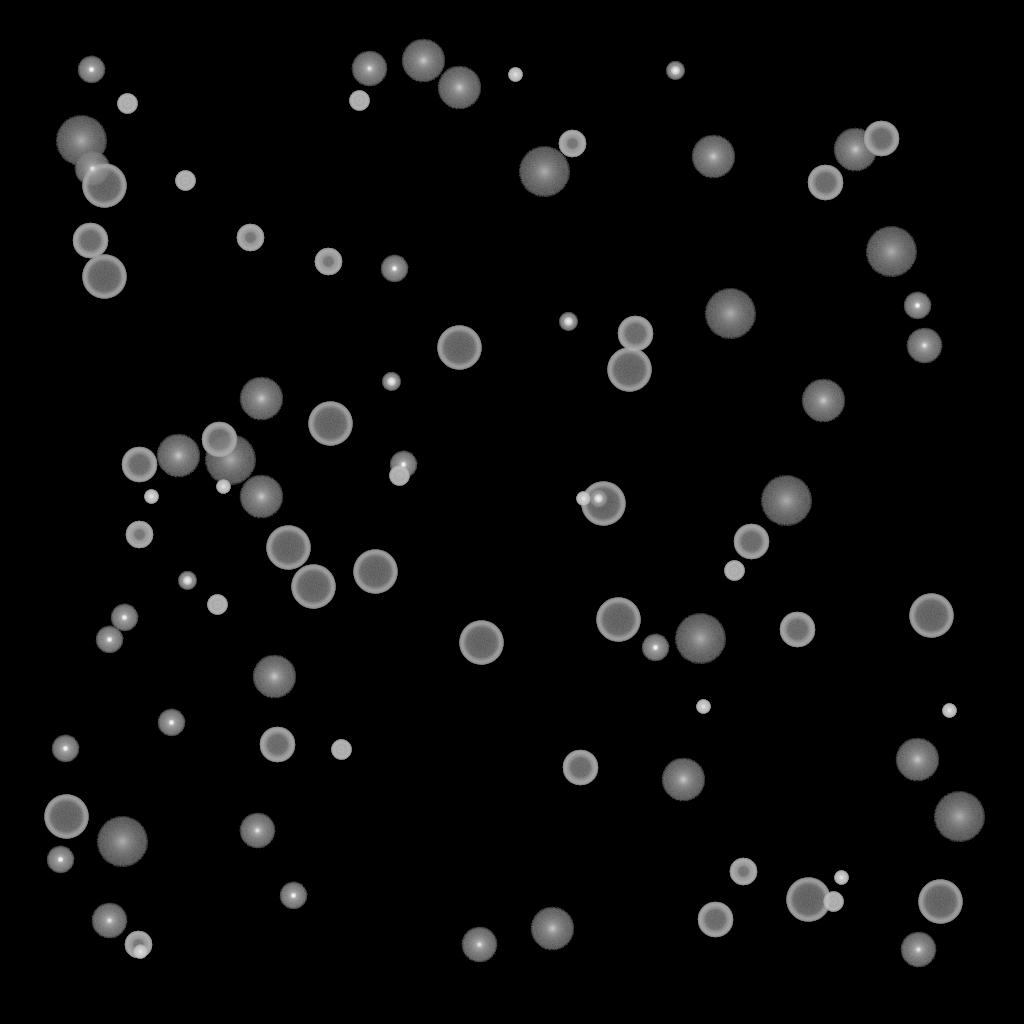depth:-10: (95, 626, 123, 654), (77, 56, 105, 84), (157, 709, 185, 737), (110, 604, 138, 632), (380, 255, 408, 283), (641, 634, 669, 662), (51, 735, 79, 763), (279, 882, 307, 910), (46, 846, 74, 874), (903, 292, 931, 320), (389, 451, 417, 479)
depth:-20: (178, 572, 196, 590), (382, 373, 400, 391), (589, 490, 607, 508), (666, 62, 684, 80), (559, 313, 577, 331)
depth:-30: (696, 700, 710, 714), (144, 490, 158, 504), (834, 871, 848, 885), (216, 480, 230, 494), (576, 492, 590, 506), (133, 945, 147, 959), (942, 704, 956, 718), (508, 68, 522, 82)
depth:-40: (349, 91, 369, 111), (389, 466, 409, 486), (117, 94, 137, 114), (823, 892, 843, 912), (724, 561, 744, 581), (207, 595, 227, 615), (331, 740, 351, 760), (175, 171, 195, 191)
depth:-50: (236, 224, 264, 252), (729, 858, 757, 886), (125, 521, 153, 549), (124, 931, 152, 959), (314, 248, 342, 276), (558, 130, 586, 158)
depth:-60: (562, 750, 598, 786), (121, 447, 157, 483), (697, 902, 733, 938), (617, 316, 653, 352), (72, 223, 108, 259), (807, 165, 843, 201), (201, 422, 237, 458), (779, 612, 815, 648), (259, 727, 295, 763), (863, 121, 899, 157), (733, 524, 769, 560)
depth:-70: (459, 621, 503, 665), (353, 550, 397, 594), (581, 482, 625, 526), (308, 402, 352, 446), (437, 326, 481, 370), (82, 164, 126, 208), (266, 526, 310, 570), (909, 594, 953, 638), (607, 348, 651, 392), (44, 795, 88, 839), (918, 880, 962, 924), (786, 878, 830, 922), (82, 255, 126, 299), (596, 598, 640, 642), (291, 565, 335, 609)
depth:0: (906, 328, 942, 364), (900, 932, 936, 968), (351, 51, 387, 87), (239, 813, 275, 849), (91, 903, 127, 939), (461, 927, 497, 963), (74, 151, 110, 187)
depth:10: (691, 135, 735, 179), (530, 907, 574, 951), (801, 379, 845, 423), (661, 758, 705, 802), (239, 377, 283, 421), (156, 434, 200, 478), (252, 655, 296, 699), (239, 475, 283, 519), (401, 39, 445, 83), (833, 128, 877, 172), (437, 66, 481, 110), (895, 738, 939, 782)
depth:20: (760, 476, 812, 526), (55, 116, 107, 166), (96, 817, 148, 867), (674, 614, 726, 664), (704, 289, 756, 339), (204, 435, 256, 485), (865, 227, 917, 277), (518, 147, 570, 197), (933, 792, 985, 842)
